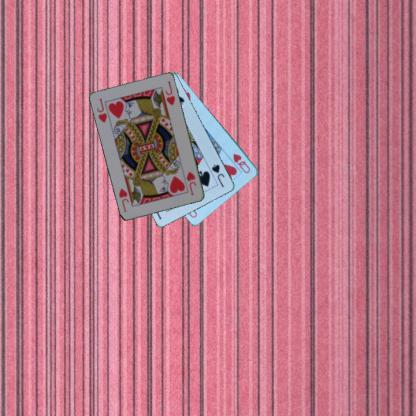Jh: (94, 96, 109, 124), (184, 169, 198, 197)
Js: (209, 162, 226, 189)
Qh: (230, 151, 252, 174)
